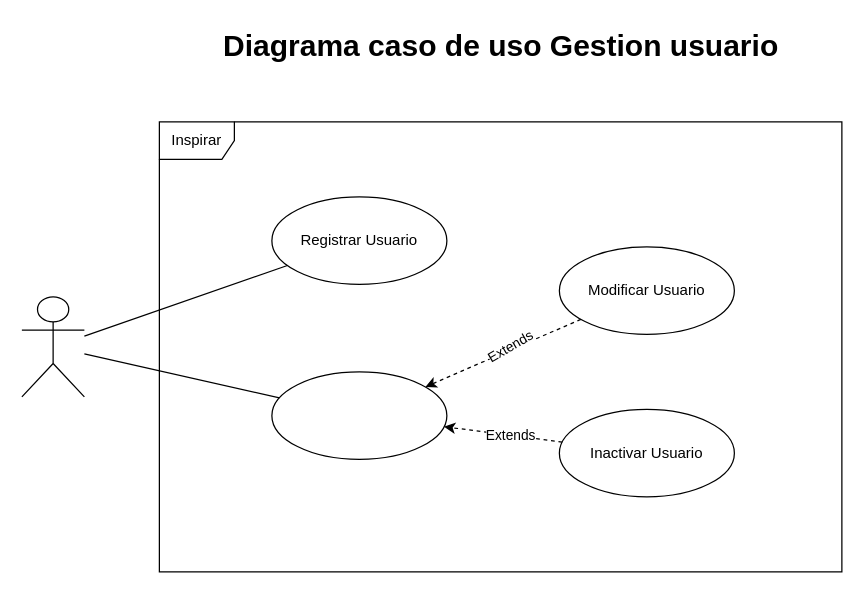
Image size: 864x594. Some labels were removed from this diagram. Each missing label, with the box of its shape:
Consultar usuario: (271, 371, 447, 459)
Usuario: (21, 296, 84, 397)
